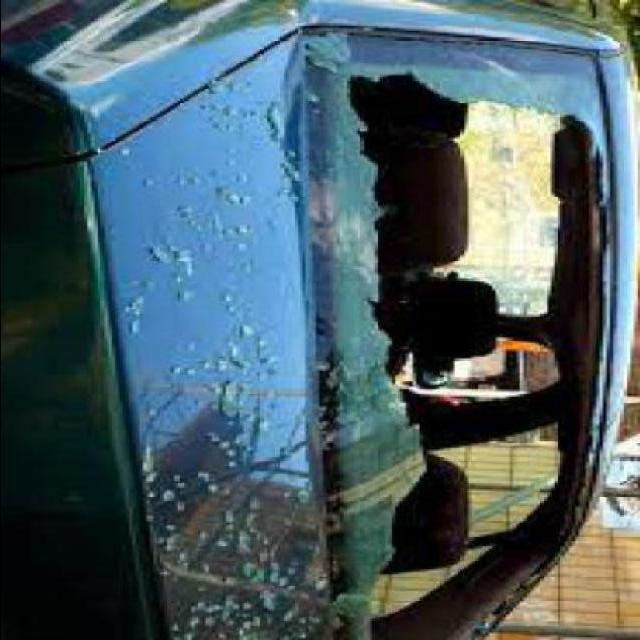Rear-windscreen-Damage: (258, 0, 640, 637)
